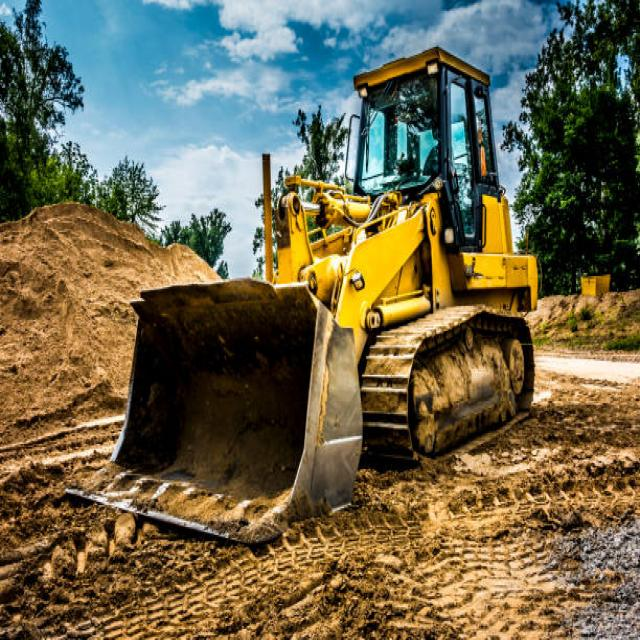Bulldozer: (63, 37, 542, 542)
